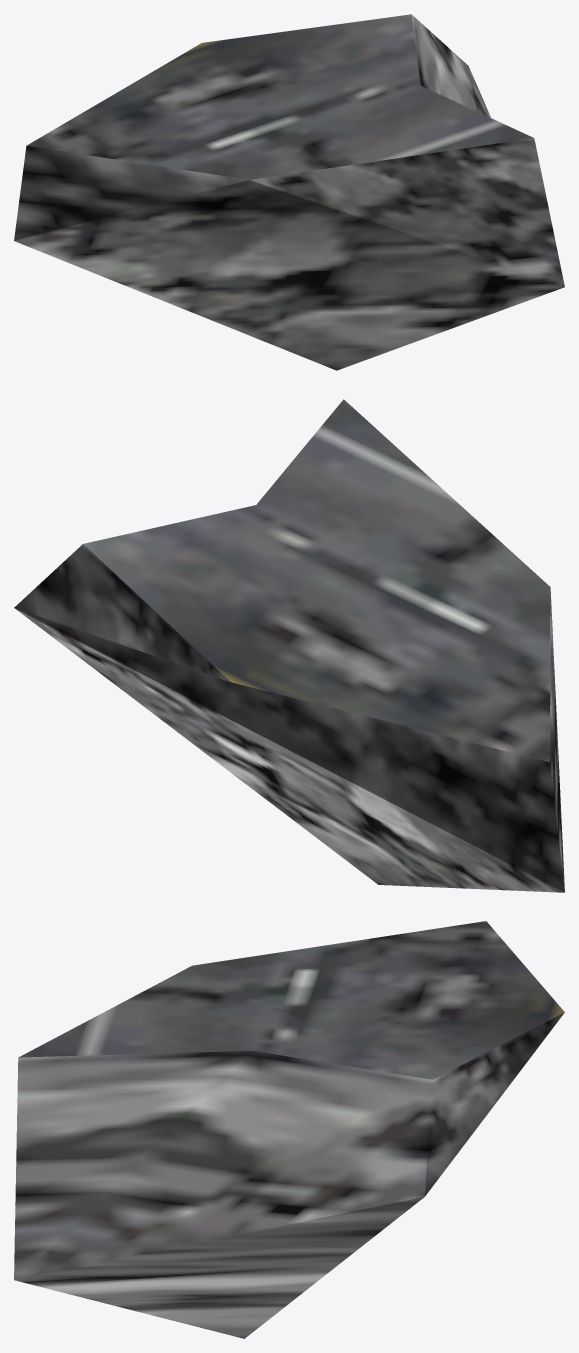
The model's file is Civilian - Civilian Building - Bridg D 03 - CBBridgD03.glb.
3 views of the same model, one above another, from view 1: azimuth 30°, elevation 25°; view 2: azimuth 150°, elevation 25°; view 3: azimuth 270°, elevation 25° (orthographic). The views are drawn at different scales.
Parts seen in each view (by area): view 1: CBBRIDGD03; view 2: CBBRIDGD03; view 3: CBBRIDGD03.
Boxes of the visible parts, x1,y1,x2,y2 form: CBBRIDGD03: [14, 14, 564, 370]; CBBRIDGD03: [14, 399, 564, 892]; CBBRIDGD03: [14, 921, 564, 1338].
Bounding box in the file's own units: 37.24 × 22.17 × 31.36.
Materials: 1 (1 with a texture image).
